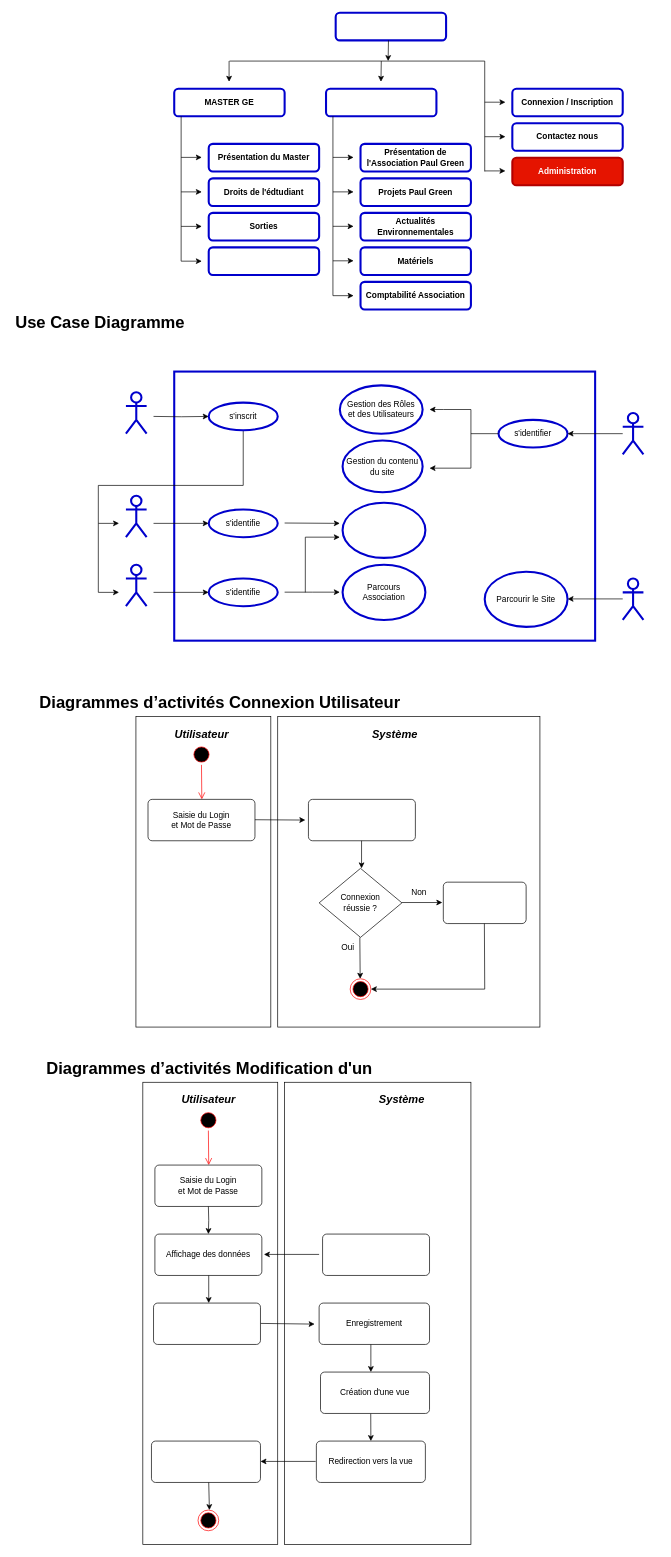
This 671x1557 diagram has some shape labels left out. Each missing label, with the centre of its shape:
"Accueil" belongs at point (390, 26).
"Adhérent Autre" belongs at point (136, 516).
"Adhérent GE" belongs at point (136, 585).
"Administrateur" belongs at point (632, 433).
"Affichage des Modifications" belongs at point (205, 1461).
"Association PAUL GREEN" belongs at point (381, 102).
"Futur Adhérent" belongs at point (136, 412).
"Message d'erreur de connexion" belongs at point (484, 902).
"Modification des informations" belongs at point (206, 1323).
"Parcours Master" belongs at point (383, 530).
"Projets Masters" belongs at point (263, 261).
"Récupération des données" belongs at point (376, 1254).
"Visiteurs" belongs at point (632, 599).
"Vérification des informations de connexion" belongs at point (361, 820).
